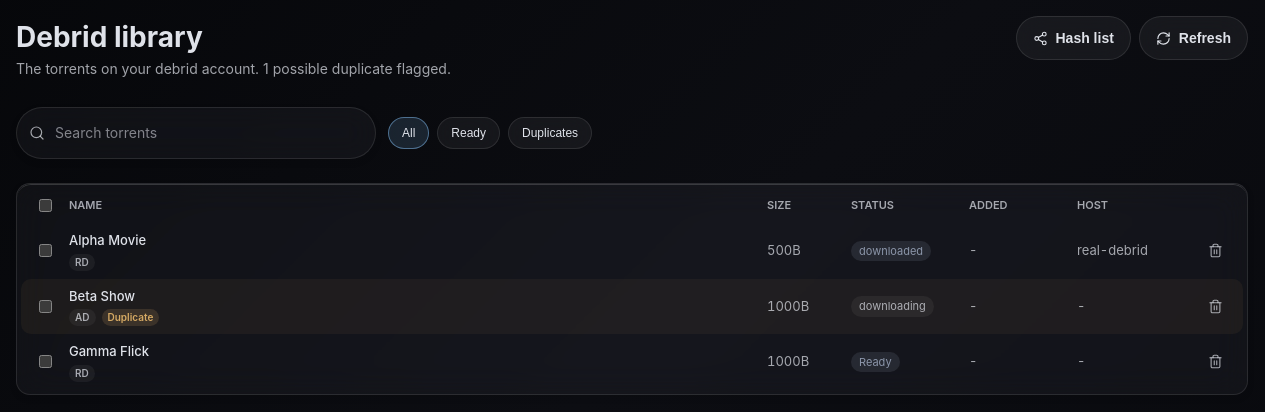
it: DebridLibrary - table render + filters › filters by search query (name contains)
Type "beta" into the field labelled "Search torrents".
click(208, 133); type("beta")  # box 53,116 -> 363,150
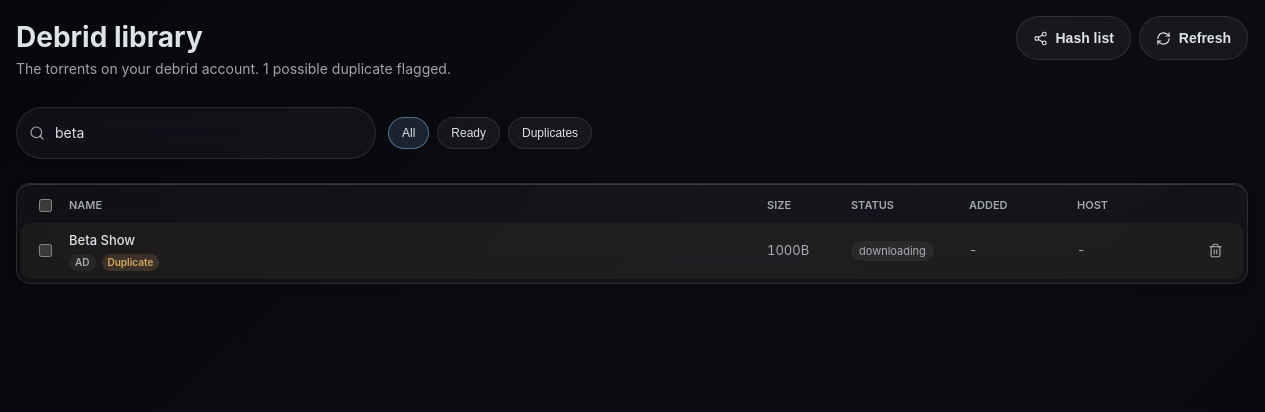
Expected: the text "Beta Show" is shown, 69,232 -> 135,248
Result: the text "Alpha Movie" is gone
Result: the text "Gamma Flick" is gone
